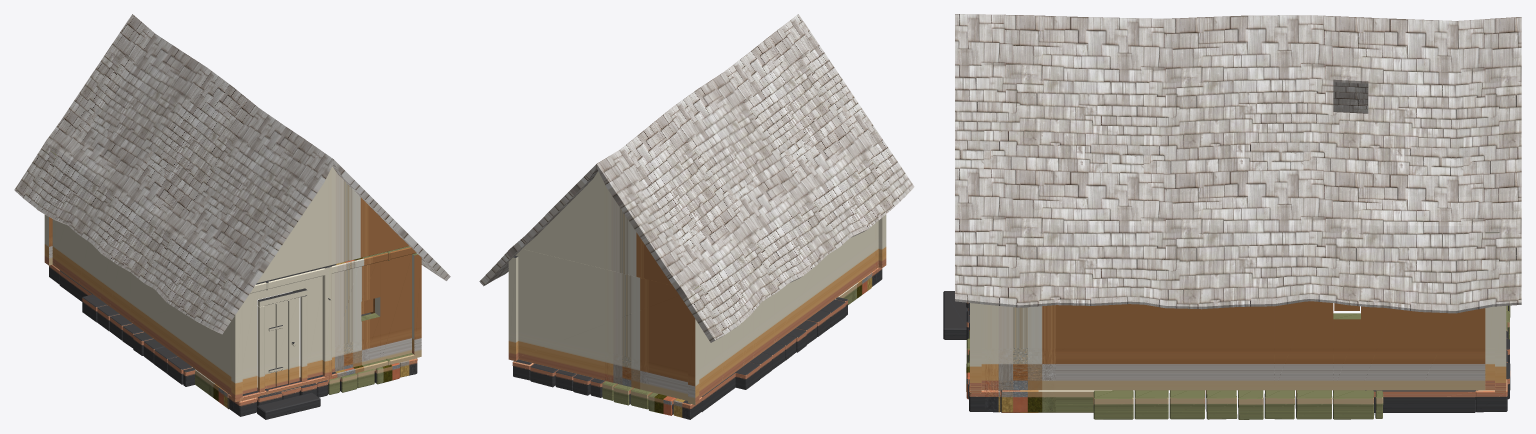
The model's file is tier1_residence_retopo_v25.glb.
3 renders of one model, left to right at view 1: azimuth 30°, elevation 25°; view 2: azimuth 150°, elevation 25°; view 3: azimuth 270°, elevation 25°, orthographic. The views are drawn at different scales.
Parts seen in each view (by area): view 1: T1_RoofSkin_Left, T1_Wall_Front_SquareHole, T1_Gable_Front, T1_Wall_Left_A, T1_Door_Front, T1_Wall_Front_Door, T1_Foundation_Left_Centre, T1_Wall_Left_SquareHole, T1_Foundation_Corner_Front_Left, T1_Front_WallPlate, T1_Foundation_Corner_Front_Right, T1_RoofSkin_Right (+8 smaller); view 2: T1_RoofSkin_Left, T1_Wall_Rear, T1_Gable_Rear, T1_Wall_Left_A, T1_Foundation_Left_Centre, T1_Wall_Left_SquareHole, T1_Foundation_Corner_Rear_Left, T1_Foundation_Corner_Rear_Right, T1_RoofSkin_Right, T1_Wall_Left_C, T1_Post_Rear_+2, T1_Post_Rear_-2 (+2 smaller); view 3: T1_RoofSkin_Right, T1_Wall_Right_A, T1_Wall_Right_SquareHole, T1_Foundation_Right_Centre, T1_Wall_Right_C, T1_Foundation_Corner_Rear_Right, T1_Foundation_Corner_Front_Right, T1_RoofSkin_Left, T1_Post_Front_+2, T1_Threshold_Steps, T1_Post_Rear_+2, T1_Wall_Front_SquareHole (+1 smaller).
Part boxes in pixels (x1=…): T1_RoofSkin_Left: x1=14, y1=14, x2=333, y2=334; T1_Wall_Front_SquareHole: x1=332, y1=254, x2=411, y2=372; T1_Gable_Front: x1=257, y1=166, x2=408, y2=283; T1_Wall_Left_A: x1=130, y1=273, x2=231, y2=395; T1_Door_Front: x1=257, y1=288, x2=308, y2=396; T1_Wall_Front_Door: x1=242, y1=276, x2=322, y2=393; T1_Foundation_Left_Centre: x1=82, y1=294, x2=195, y2=386; T1_Wall_Left_SquareHole: x1=79, y1=235, x2=130, y2=321; T1_Foundation_Corner_Front_Left: x1=192, y1=367, x2=327, y2=416; T1_Front_WallPlate: x1=250, y1=246, x2=416, y2=293; T1_Foundation_Corner_Front_Right: x1=328, y1=358, x2=417, y2=394; T1_RoofSkin_Right: x1=332, y1=160, x2=450, y2=280; T1_RoofSkin_Left: x1=596, y1=14, x2=914, y2=342; T1_Wall_Rear: x1=516, y1=249, x2=699, y2=400; T1_Gable_Rear: x1=522, y1=171, x2=672, y2=285; T1_Wall_Left_A: x1=774, y1=223, x2=876, y2=343; T1_Foundation_Left_Centre: x1=735, y1=297, x2=847, y2=389; T1_Wall_Left_SquareHole: x1=722, y1=294, x2=774, y2=380; T1_Foundation_Corner_Rear_Left: x1=602, y1=372, x2=735, y2=419; T1_Foundation_Corner_Rear_Right: x1=512, y1=359, x2=605, y2=397; T1_RoofSkin_Right: x1=479, y1=164, x2=597, y2=286; T1_Wall_Left_C: x1=699, y1=325, x2=722, y2=398; T1_Post_Rear_+2: x1=508, y1=255, x2=518, y2=361; T1_Post_Rear_-2: x1=688, y1=308, x2=699, y2=404; T1_RoofSkin_Right: x1=955, y1=14, x2=1521, y2=313; T1_Wall_Right_A: x1=991, y1=304, x2=1274, y2=390; T1_Wall_Right_SquareHole: x1=1274, y1=301, x2=1419, y2=390; T1_Foundation_Right_Centre: x1=1093, y1=390, x2=1383, y2=419; T1_Wall_Right_C: x1=1420, y1=308, x2=1485, y2=390; T1_Foundation_Corner_Rear_Right: x1=1365, y1=331, x2=1510, y2=412; T1_Foundation_Corner_Front_Right: x1=966, y1=331, x2=1111, y2=412; T1_RoofSkin_Left: x1=1333, y1=82, x2=1368, y2=113; T1_Post_Front_+2: x1=970, y1=303, x2=981, y2=392; T1_Threshold_Steps: x1=943, y1=291, x2=967, y2=339; T1_Post_Rear_+2: x1=1495, y1=306, x2=1506, y2=392; T1_Wall_Front_SquareHole: x1=981, y1=304, x2=991, y2=390.
Size of the model in its own units: 5.32 by 5.14 by 7.96.
Materials: 8 (8 with a texture image).
